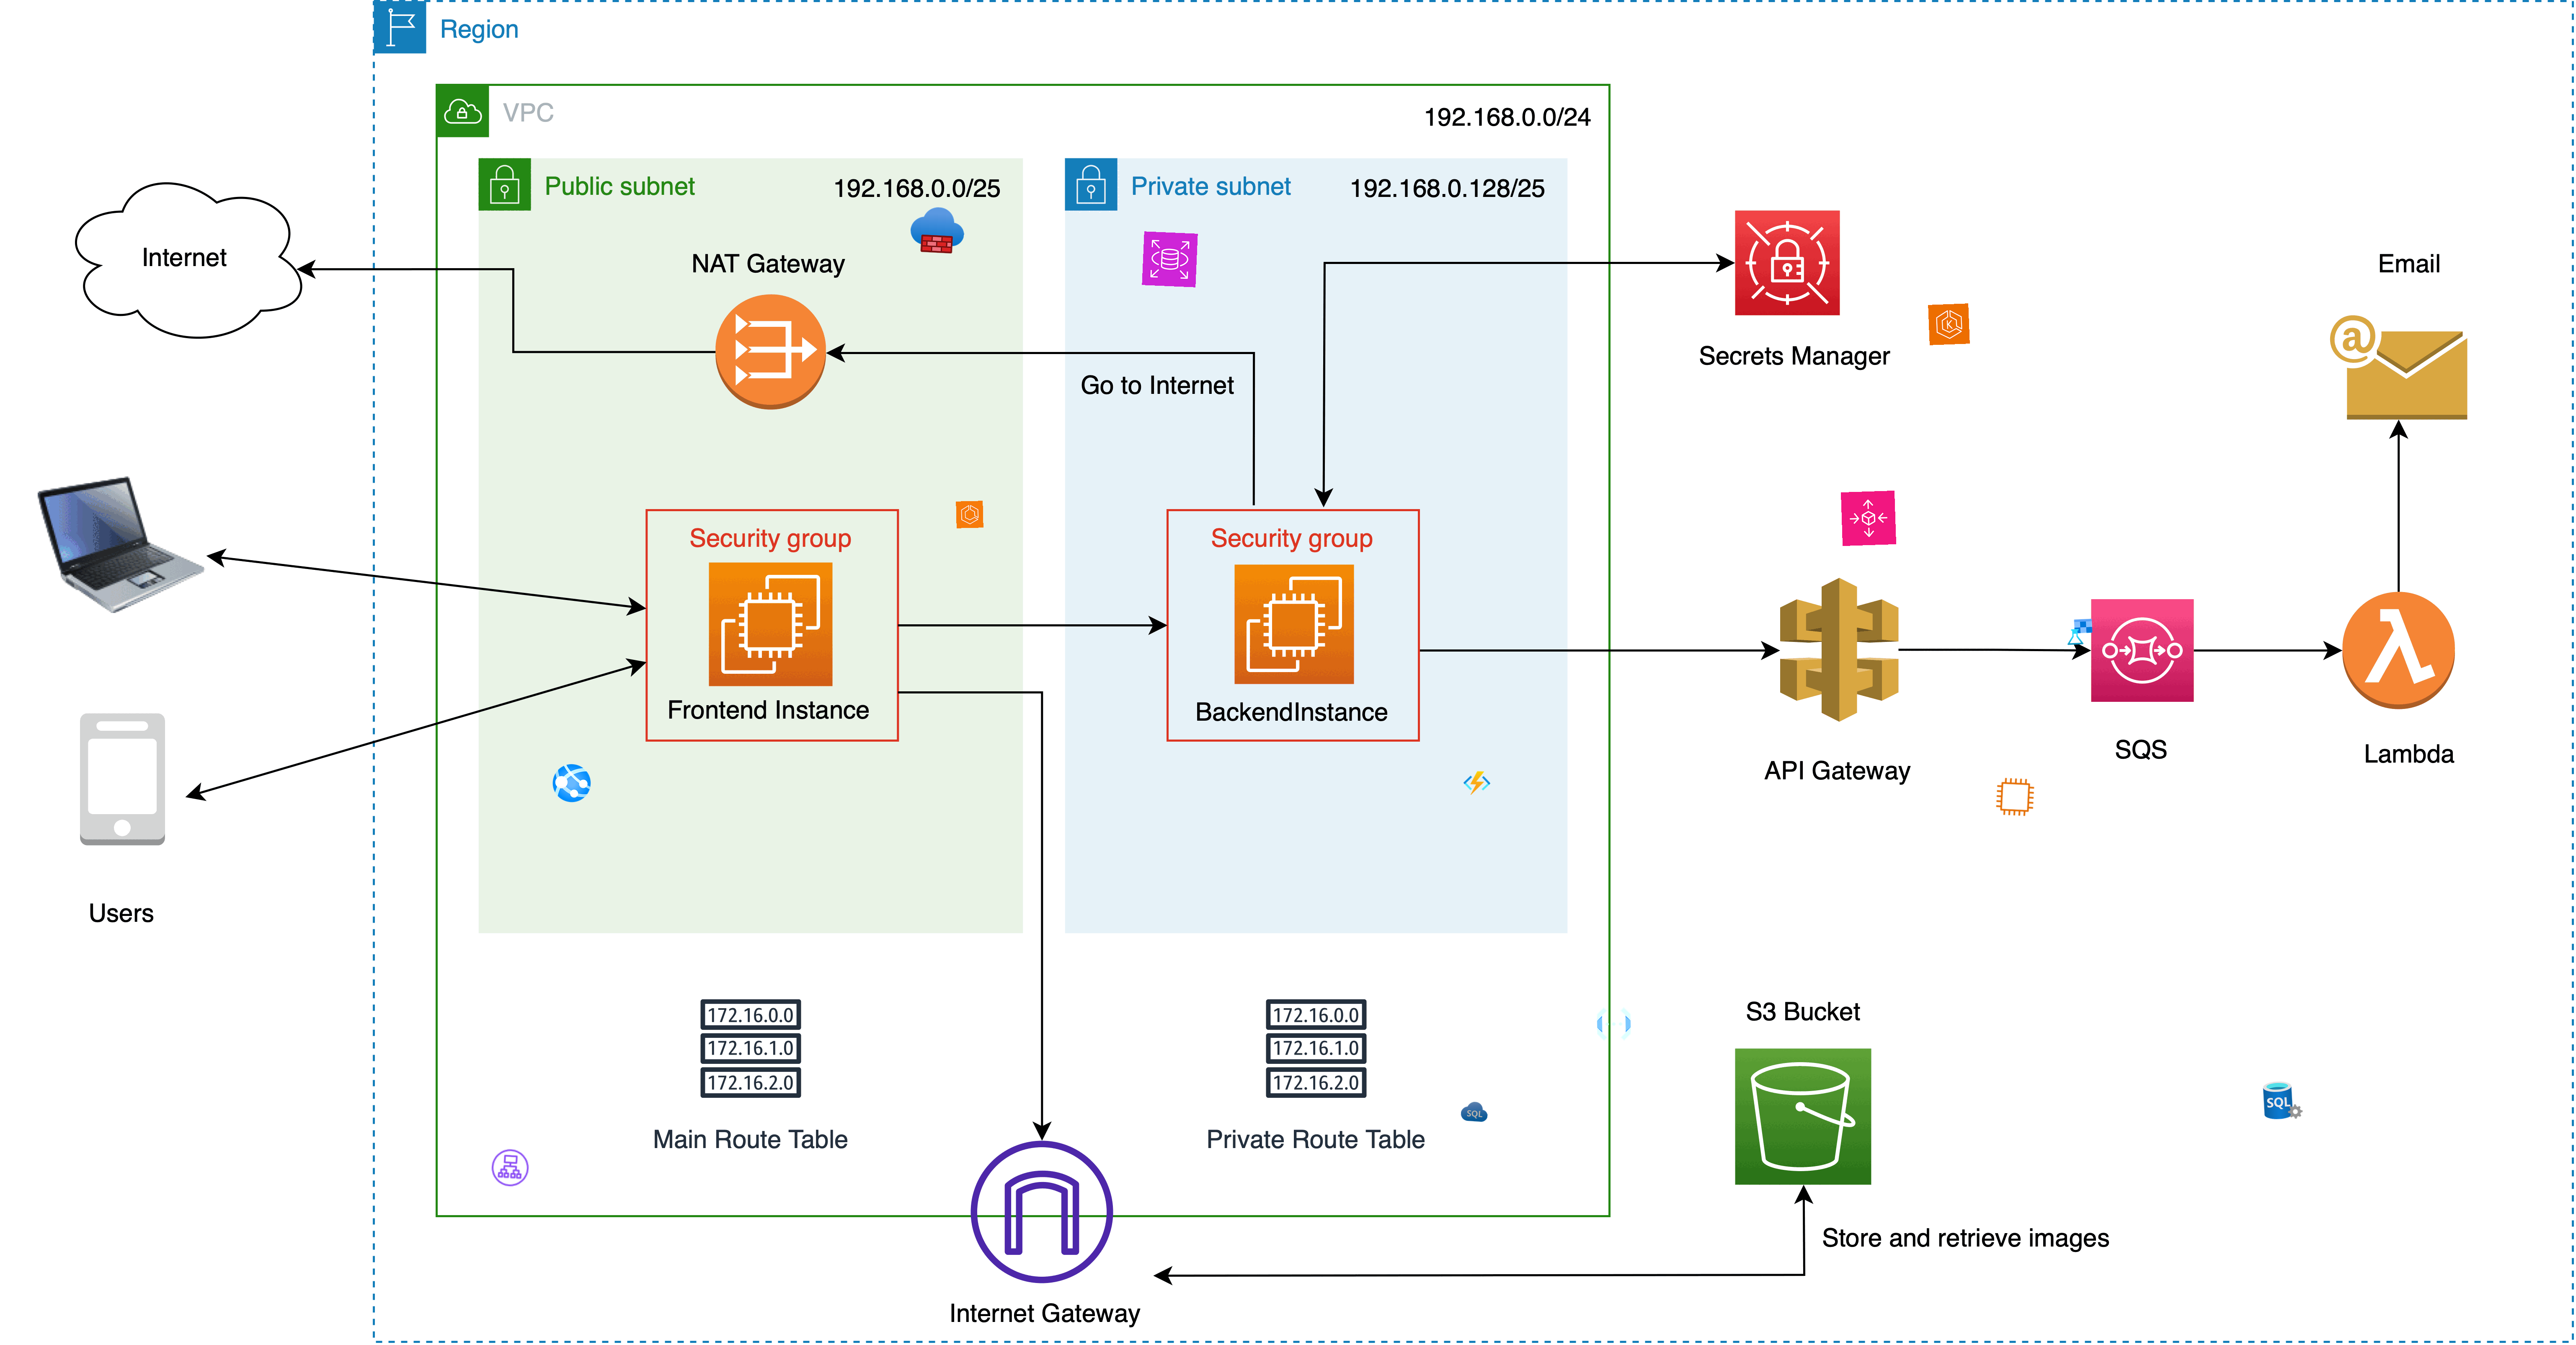aws_amazon_elastic_container_service: (956, 501, 983, 528)
aws_amazon_elastic_kubernetes_service: (1929, 303, 1969, 346)
aws_amazon_rds: (1141, 232, 1198, 288)
aws_auto_scaling: (1840, 491, 1896, 547)
aws_ec2_instance: (1993, 776, 2036, 818)
aws_elastic_load_balancing_application_load_balancer: (489, 1146, 532, 1190)
azure_app_services: (552, 762, 593, 803)
azure_firewalls: (910, 201, 966, 259)
azure_function_apps: (1463, 769, 1491, 798)
azure_machine_learning_studio_workspaces: (2065, 617, 2094, 646)
azure_sql: (1460, 1098, 1489, 1127)
azure_sql_server: (2261, 1079, 2303, 1122)
gcp_cloud_functions: (1593, 1004, 1634, 1045)
